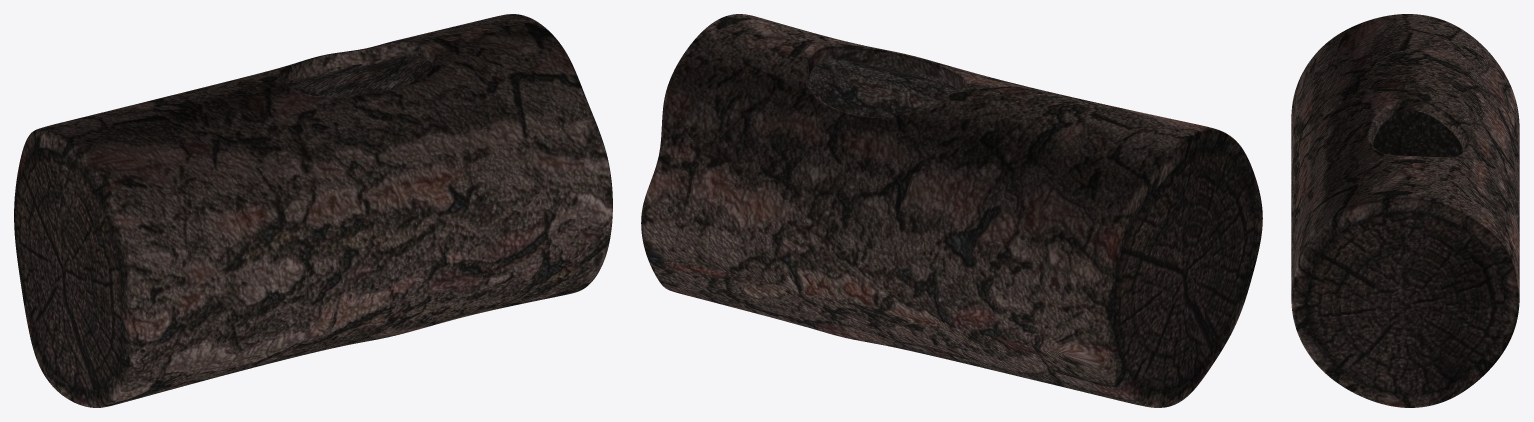
Rendered from 13021_Aquarium_Log_v1_L3.obj.
The picture shows the model from 3 angles, left to right: view 1: azimuth 30°, elevation 25°; view 2: azimuth 150°, elevation 25°; view 3: azimuth 270°, elevation 25°; orthographic projection. The views are drawn at different scales.
Parts seen in each view (by area): view 1: Aquarium_Log; view 2: Aquarium_Log; view 3: Aquarium_Log.
Boxes of the visible parts, box(x1,y1,x2,y2) form: Aquarium_Log: box(14, 14, 612, 407); Aquarium_Log: box(641, 14, 1262, 407); Aquarium_Log: box(1291, 14, 1519, 407).
Size of the model in its own units: 21.91 by 10.99 by 10.98.
1 material, 1 textured.
